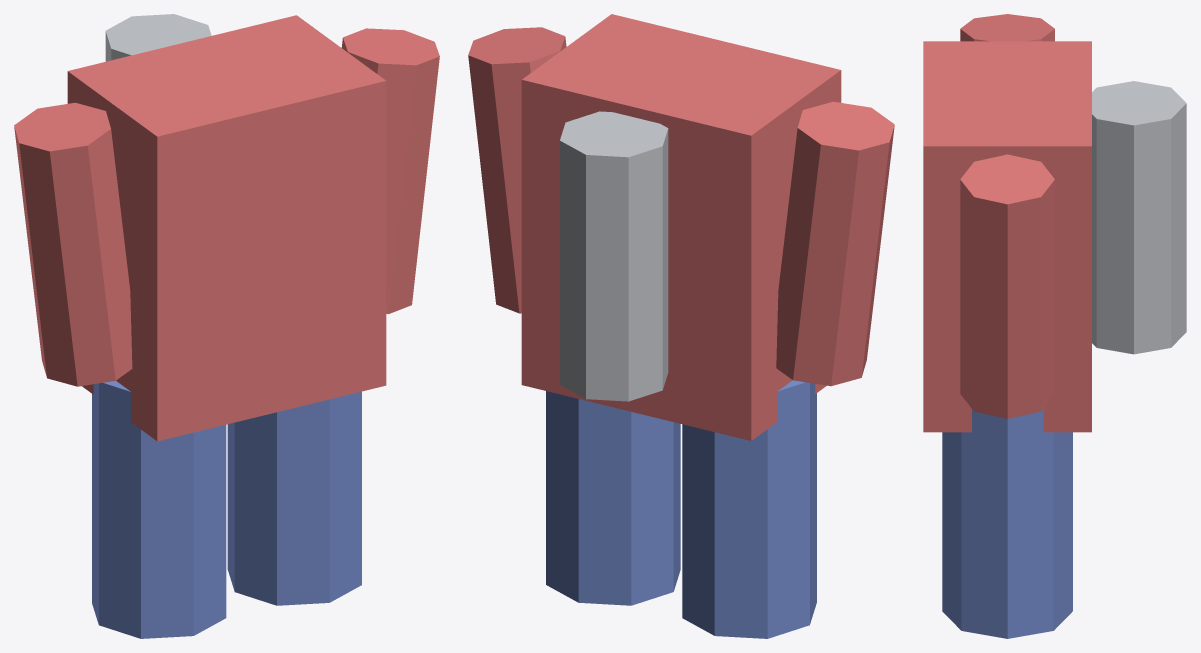
The model's file is diving.glb.
The picture shows the model from 3 angles, left to right: view 1: azimuth 30°, elevation 25°; view 2: azimuth 150°, elevation 25°; view 3: azimuth 270°, elevation 25°; orthographic projection. The views are drawn at different scales.
Parts seen in each view (by area): view 1: top, pant, sleeve, pant.001, sleeve.001, tank; view 2: top, tank, pant, sleeve, pant.001, sleeve.001; view 3: top, pant.001, tank, sleeve.001, sleeve.
Part boxes in pixels (x1,y1,x2,y2): top: (67,15,386,441); pant: (92,381,226,638); sleeve: (14,102,132,386); pant.001: (227,391,361,605); sleeve.001: (341,28,439,314); tank: (105,14,211,61); top: (521,14,841,440); tank: (560,111,668,401); pant: (682,380,816,638); sleeve: (776,101,894,386); pant.001: (546,391,680,605); sleeve.001: (468,27,566,313); top: (923,41,1091,432); pant.001: (942,409,1072,638); tank: (1092,81,1186,354); sleeve.001: (960,154,1054,418); sleeve: (960,14,1054,41).
Bounding box in the file's own units: 0.4281 × 0.51 × 0.25.
